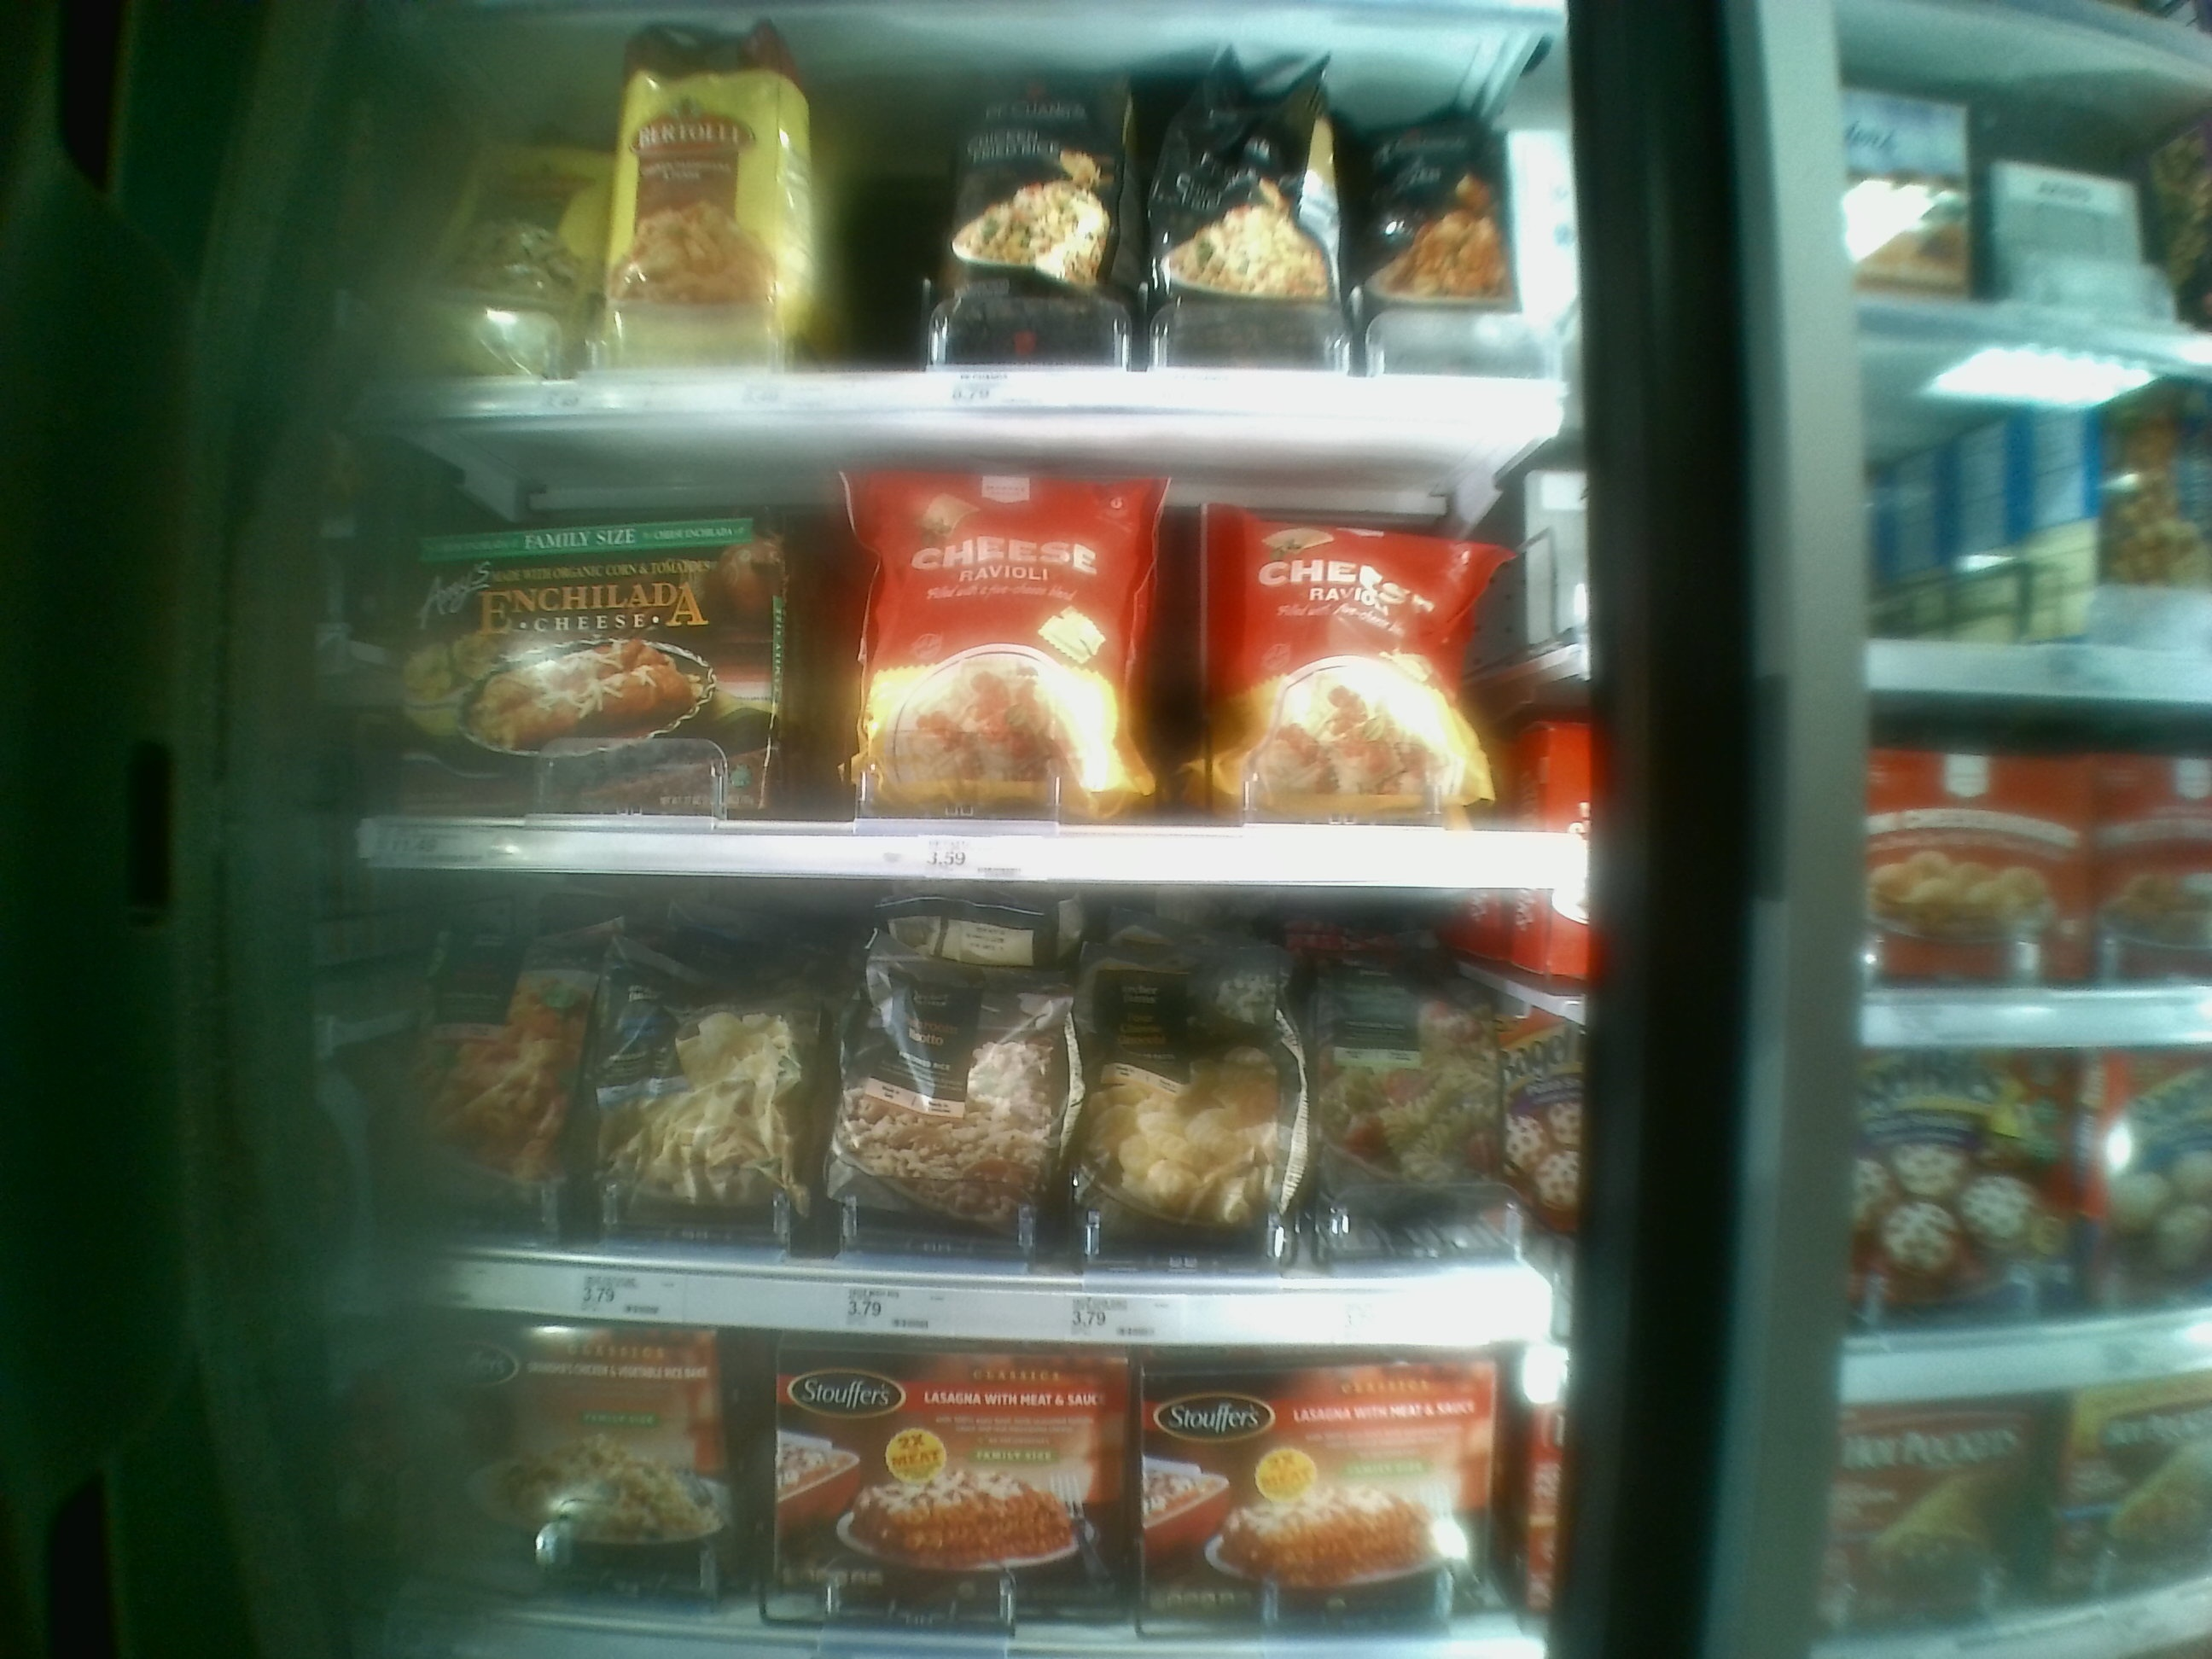shelf: (324, 408, 1571, 877), (347, 854, 1587, 1319)
